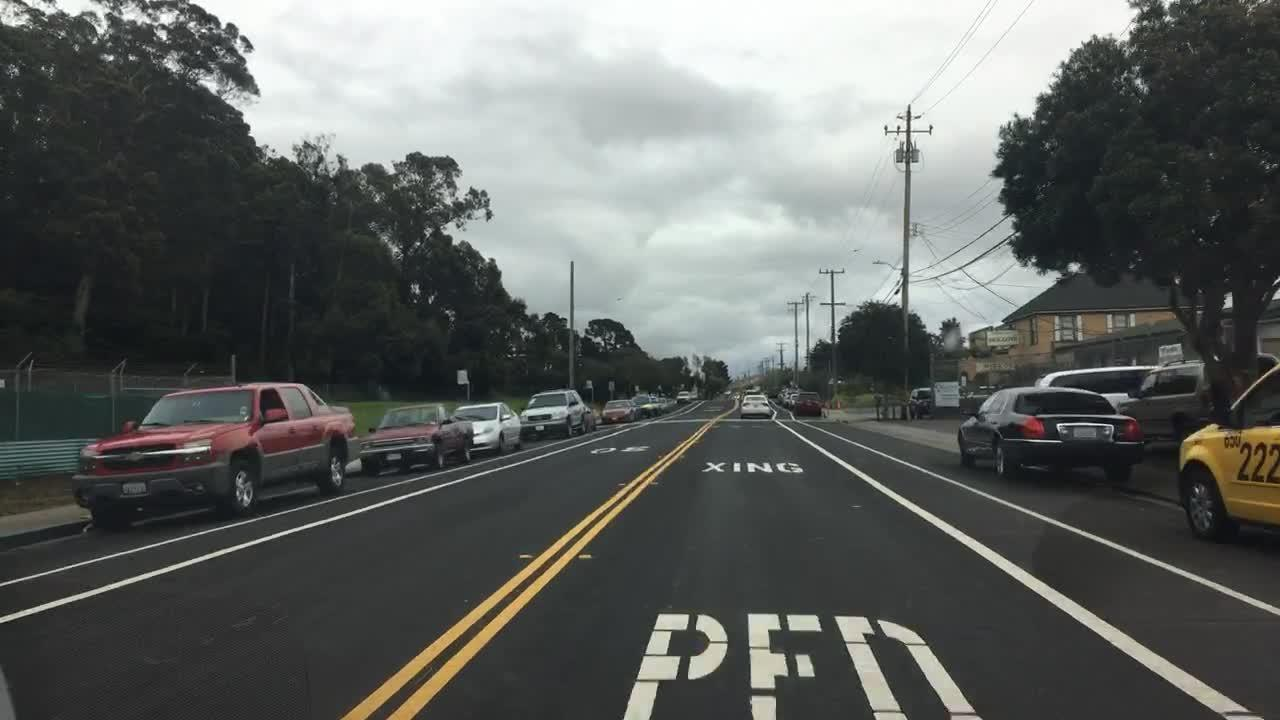chevrolet: (120, 448, 152, 466)
